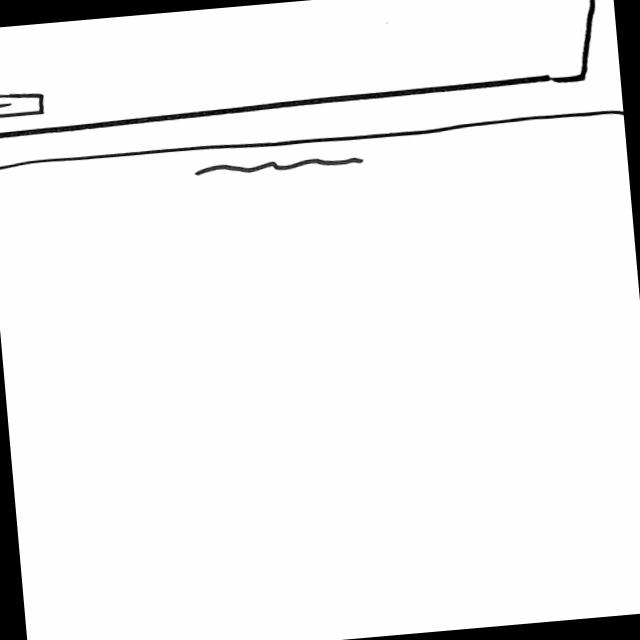container: (1, 1, 605, 140)
icon-button: (1, 89, 49, 122)
text: (192, 151, 371, 185)
